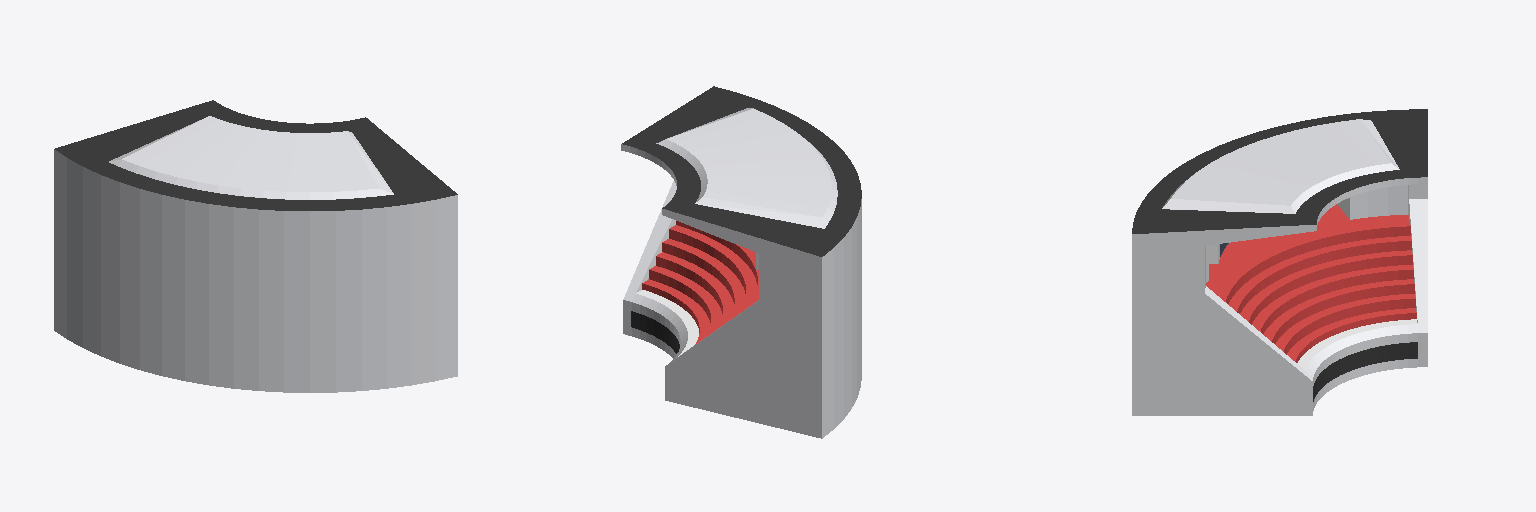
Rendered from grandStandCoveredRound.obj.
3 views of the same model, side by side, from view 1: azimuth 30°, elevation 25°; view 2: azimuth 150°, elevation 25°; view 3: azimuth 270°, elevation 25° (orthographic).
Visible parts, largest first — view 1: grandStandCoveredRound; view 2: grandStandCoveredRound; view 3: grandStandCoveredRound.
Boxes of the visible parts, box(x1,y1,x2,y2) form: grandStandCoveredRound: box(54, 100, 457, 392); grandStandCoveredRound: box(621, 86, 861, 438); grandStandCoveredRound: box(1132, 109, 1427, 415).
Size of the model in its own units: 1.64 by 1.19 by 1.64.